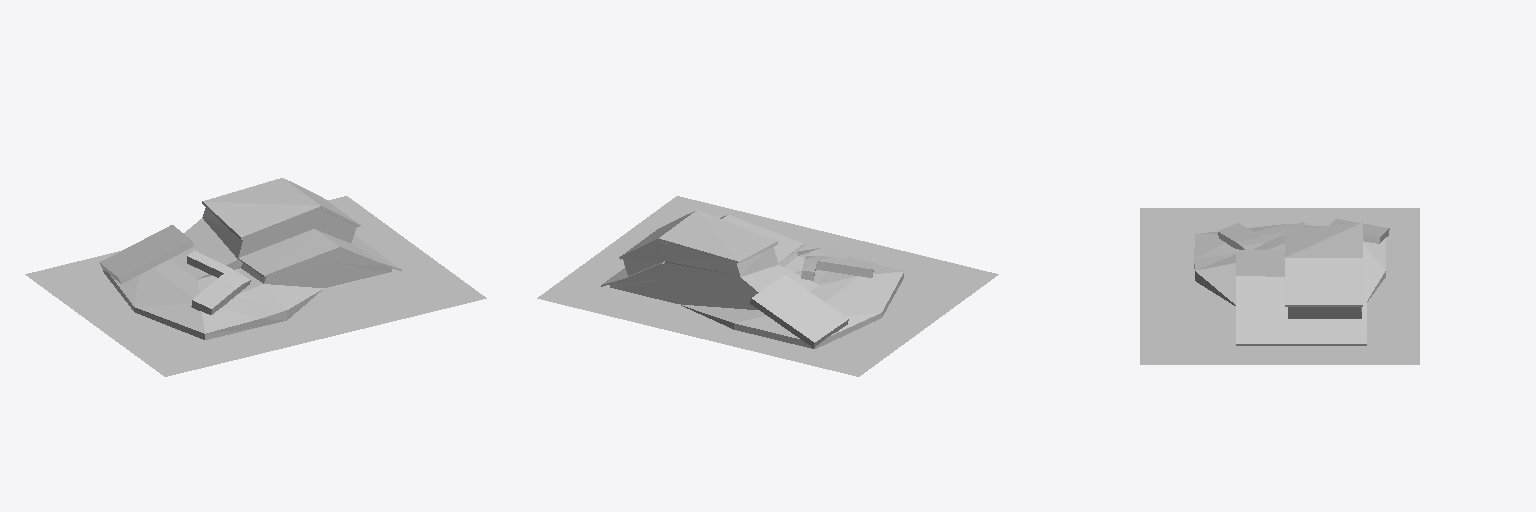
The model's file is ieyugami2.obj.
3 views of the same model, side by side, from view 1: azimuth 30°, elevation 25°; view 2: azimuth 150°, elevation 25°; view 3: azimuth 270°, elevation 25° (orthographic).
Visible parts, largest first — view 1: Plane; view 2: Plane; view 3: Plane.
Boxes of the visible parts, box(x1,y1,x2,y2) form: Plane: box(25, 178, 486, 376); Plane: box(537, 196, 998, 376); Plane: box(1140, 208, 1419, 364).
Size of the model in its own units: 24.94 by 4.67 by 18.82.